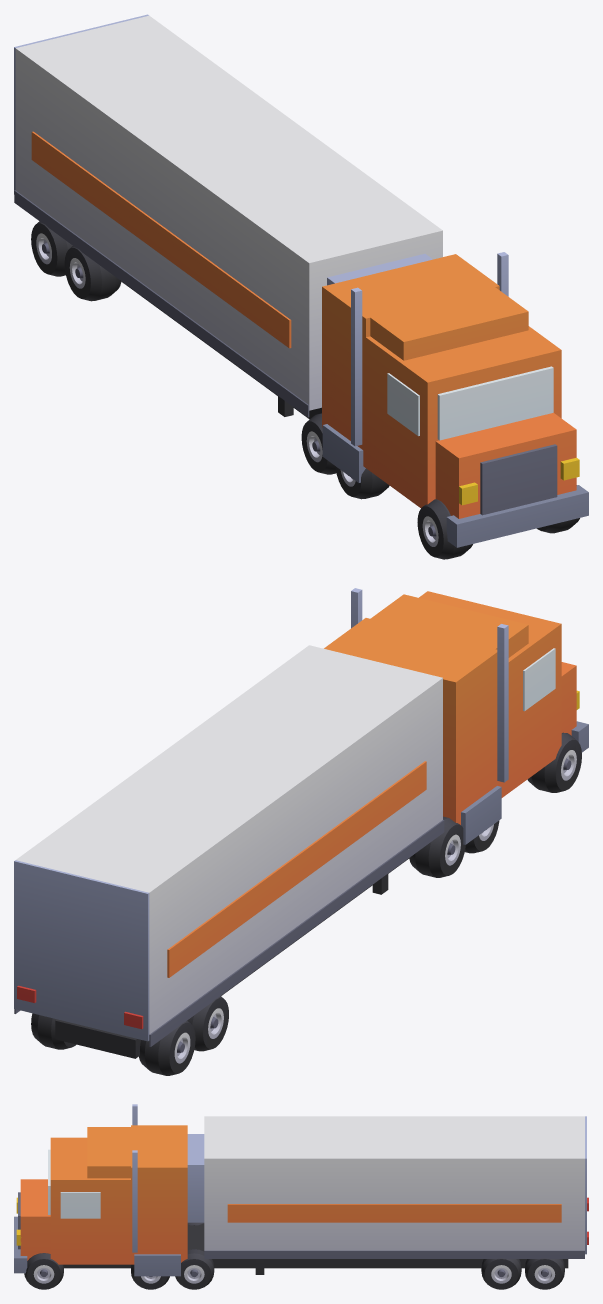
File: reefer-B.glb
3 renders of one model, top to bottom at view 1: azimuth 30°, elevation 25°; view 2: azimuth 150°, elevation 25°; view 3: azimuth 270°, elevation 25°, orthographic. The views are drawn at different scales.
Visible parts, largest first — view 1: body, wheel--3.0-l, wheel-3.85-l, wheel--3.65-l, wheel-1.6-l, wheel-2.25-l; view 2: body, wheel--3.65-l, wheel-1.6-l, wheel-3.85-l, wheel--3.0-l, wheel--3.65-r; view 3: body, wheel-1.6-r, wheel-3.85-r, wheel--3.0-r, wheel--3.65-r, wheel-2.25-r.
Boxes of the visible parts, bbox=[...] form: body: bbox=[14, 14, 588, 547]; wheel--3.0-l: bbox=[64, 246, 121, 301]; wheel-3.85-l: bbox=[417, 499, 472, 559]; wheel--3.65-l: bbox=[31, 221, 72, 276]; wheel-1.6-l: bbox=[301, 413, 336, 474]; wheel-2.25-l: bbox=[335, 466, 389, 499]; body: bbox=[14, 588, 588, 1058]; wheel--3.65-l: bbox=[139, 1020, 195, 1075]; wheel-1.6-l: bbox=[409, 816, 465, 877]; wheel-3.85-l: bbox=[527, 732, 581, 792]; wheel--3.0-l: bbox=[187, 996, 228, 1051]; wheel--3.65-r: bbox=[31, 1013, 76, 1049]; body: bbox=[14, 1104, 588, 1276]; wheel-1.6-r: bbox=[175, 1249, 214, 1289]; wheel-3.85-r: bbox=[24, 1253, 63, 1289]; wheel--3.0-r: bbox=[481, 1258, 521, 1289]; wheel--3.65-r: bbox=[525, 1258, 564, 1289]; wheel-2.25-r: bbox=[131, 1264, 169, 1289].
Size of the model in its own units: 1.72 by 2.35 by 8.61.
Materials: 1 (1 with a texture image).
